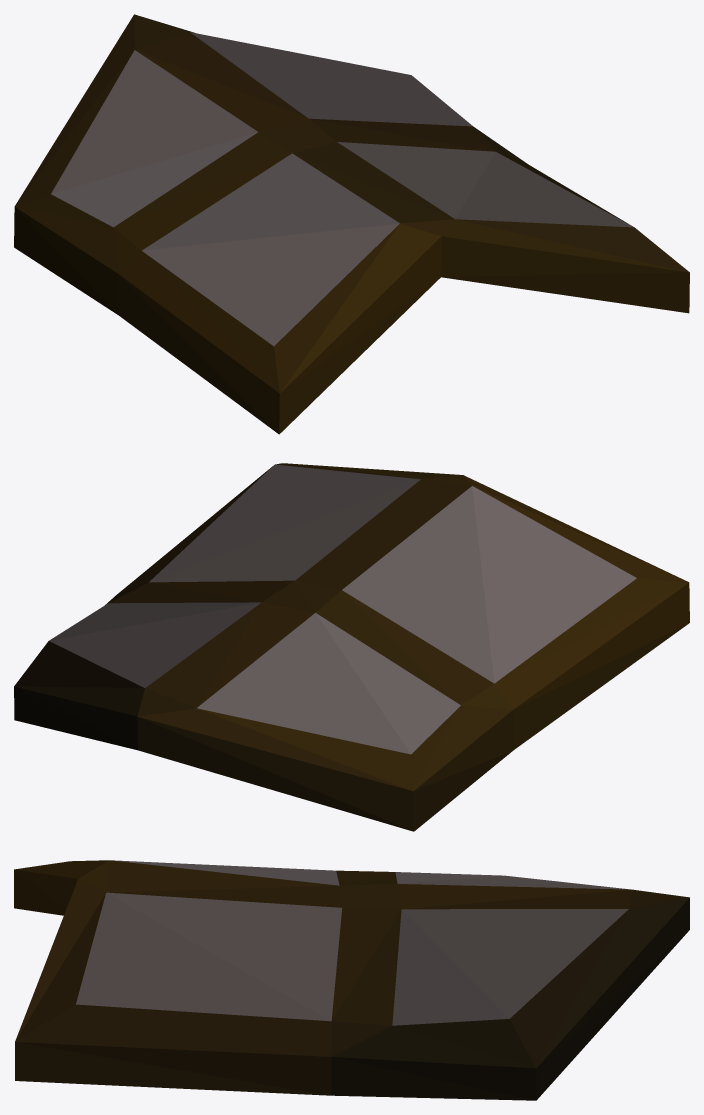
File: steel-kiteshield.obj
The picture shows the model from 3 angles, top to bottom: view 1: azimuth 30°, elevation 25°; view 2: azimuth 150°, elevation 25°; view 3: azimuth 270°, elevation 25°; orthographic projection. The views are drawn at different scales.
Visible parts, largest first — view 1: Item Steel kiteshield 2026-09-24_18-12-46; view 2: Item Steel kiteshield 2026-09-24_18-12-46; view 3: Item Steel kiteshield 2026-09-24_18-12-46.
Part boxes in pixels (left/top/right/bottom): Item Steel kiteshield 2026-09-24_18-12-46: left=14, top=14, right=689, bottom=434; Item Steel kiteshield 2026-09-24_18-12-46: left=14, top=463, right=689, bottom=831; Item Steel kiteshield 2026-09-24_18-12-46: left=14, top=860, right=689, bottom=1100.
Bounding box in the file's own units: 63.84 × 21.62 × 93.81.
